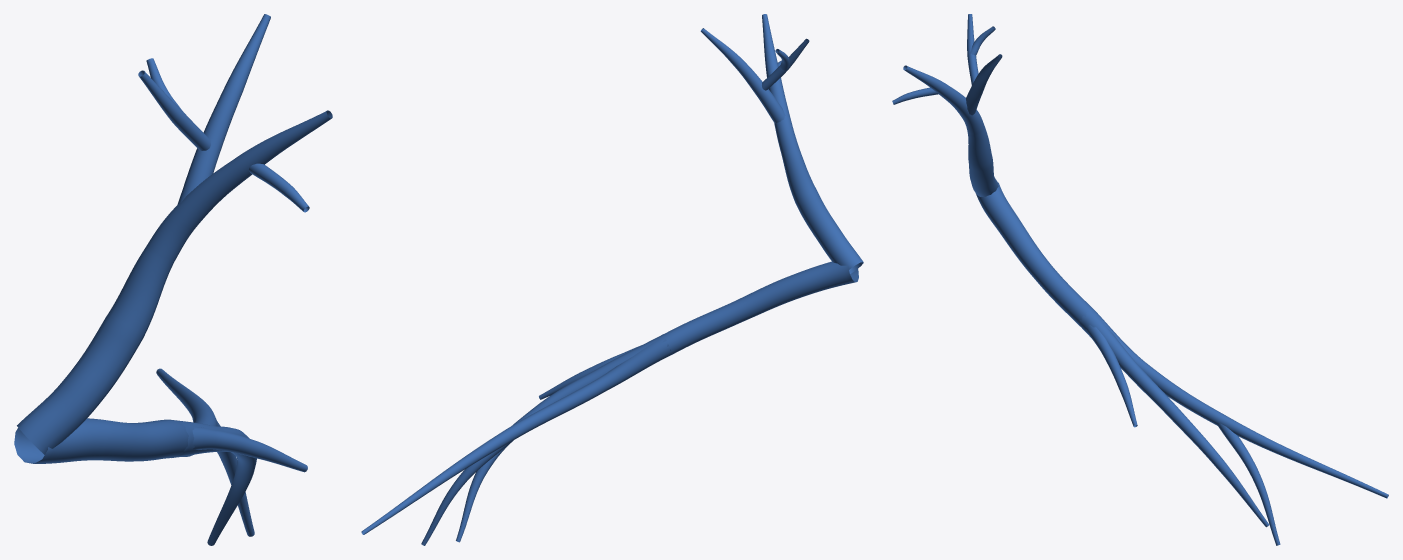
3 renders of one model, left to right at view 1: azimuth 30°, elevation 25°; view 2: azimuth 150°, elevation 25°; view 3: azimuth 270°, elevation 25°, orthographic. The views are drawn at different scales.
Visible parts, largest first — view 1: 左肺下叶上静脉; view 2: 左肺下叶上静脉; view 3: 左肺下叶上静脉.
Boxes of the visible parts, x1,y1,x2,y2 form: 左肺下叶上静脉: (14,14,332,545); 左肺下叶上静脉: (361,14,863,545); 左肺下叶上静脉: (892,14,1388,545).
Size of the model in its own units: 0.1095 by 0.1593 by 0.1675.
